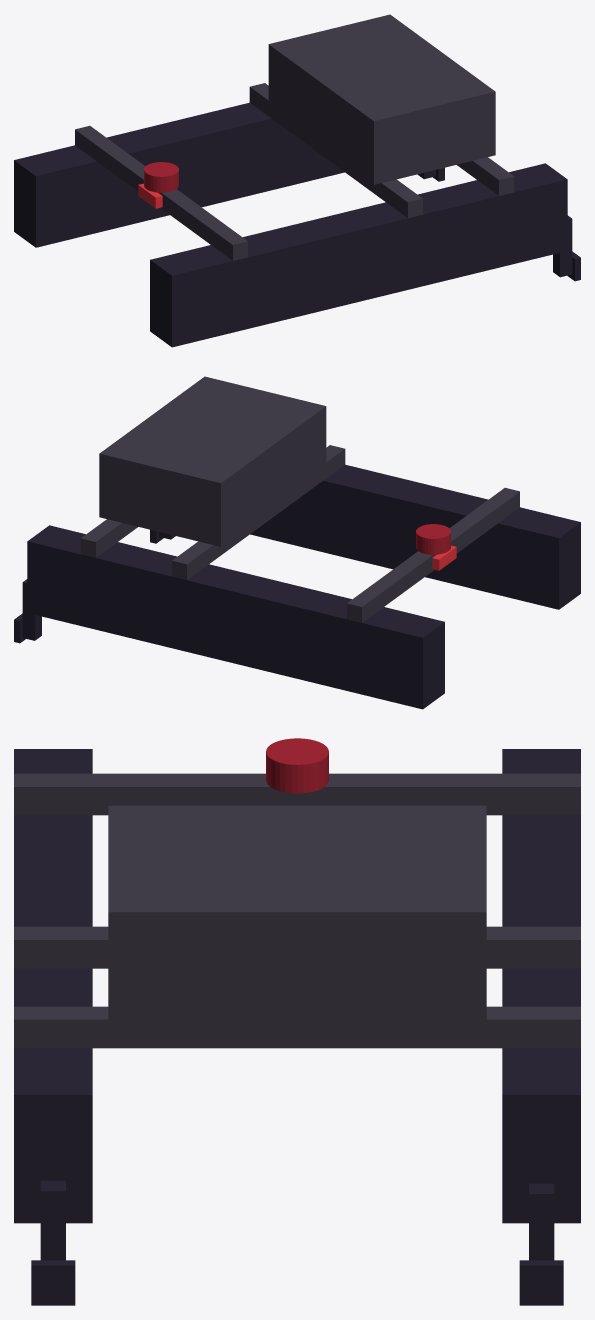
The model's file is dual_thruster_boat_separated.fbx.
3 views of the same model, one above another, from view 1: azimuth 30°, elevation 25°; view 2: azimuth 150°, elevation 25°; view 3: azimuth 270°, elevation 25° (orthographic). The views are drawn at different scales.
Parts seen in each view (by area): view 1: left_hull, base_link, right_hull, sensor_rail, tuppy_front_rail, tuppy_back_rail, lidar, left_thruster_mount; view 2: right_hull, base_link, left_hull, sensor_rail, tuppy_front_rail, tuppy_back_rail, lidar, right_thruster_mount; view 3: base_link, right_hull, left_hull, sensor_rail, tuppy_back_rail, tuppy_front_rail, lidar, left_thruster_mount, right_thruster, left_thruster, right_thruster_mount.
Boxes of the visible parts, x1=… form: left_hull: x1=150, y1=163, x2=567, y2=347; base_link: x1=268, y1=14, x2=495, y2=184; right_hull: x1=14, y1=102, x2=344, y2=247; sensor_rail: x1=75, y1=125, x2=247, y2=260; tuppy_front_rail: x1=249, y1=83, x2=422, y2=218; tuppy_back_rail: x1=457, y1=157, x2=514, y2=195; lidar: x1=144, y1=162, x2=178, y2=192; left_thruster_mount: x1=553, y1=215, x2=572, y2=277; right_hull: x1=27, y1=525, x2=444, y2=709; base_link: x1=99, y1=376, x2=326, y2=546; left_hull: x1=250, y1=464, x2=580, y2=609; sensor_rail: x1=347, y1=487, x2=519, y2=622; tuppy_front_rail: x1=172, y1=445, x2=345, y2=580; tuppy_back_rail: x1=80, y1=519, x2=137, y2=557; lidar: x1=416, y1=524, x2=450, y2=554; right_thruster_mount: x1=22, y1=579, x2=41, y2=640; base_link: x1=108, y1=805, x2=486, y2=1026; right_hull: x1=502, y1=749, x2=580, y2=1223; left_hull: x1=14, y1=749, x2=92, y2=1223; sensor_rail: x1=14, y1=773, x2=580, y2=815; tuppy_back_rail: x1=14, y1=1006, x2=580, y2=1048; tuppy_front_rail: x1=14, y1=926, x2=580, y2=968; lidar: x1=266, y1=738, x2=328, y2=793; left_thruster_mount: x1=40, y1=1180, x2=65, y2=1260; right_thruster: x1=519, y1=1260, x2=563, y2=1305; left_thruster: x1=31, y1=1260, x2=75, y2=1305; right_thruster_mount: x1=529, y1=1183, x2=554, y2=1260.
Bounding box in the file's own units: 90 × 136 × 59.1.
